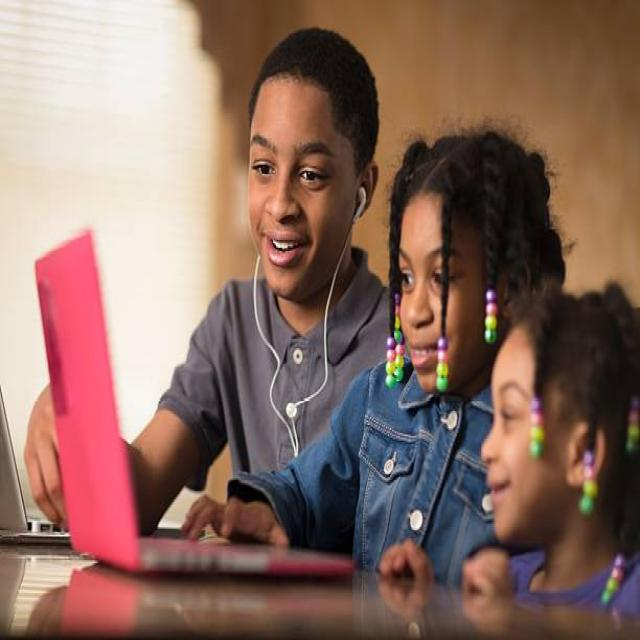Earphone: (252, 183, 369, 462)
